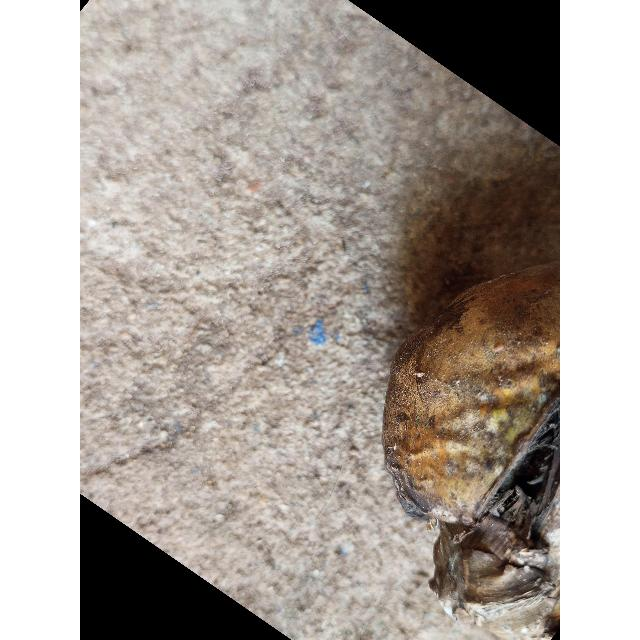damaged: (381, 200, 560, 640)
